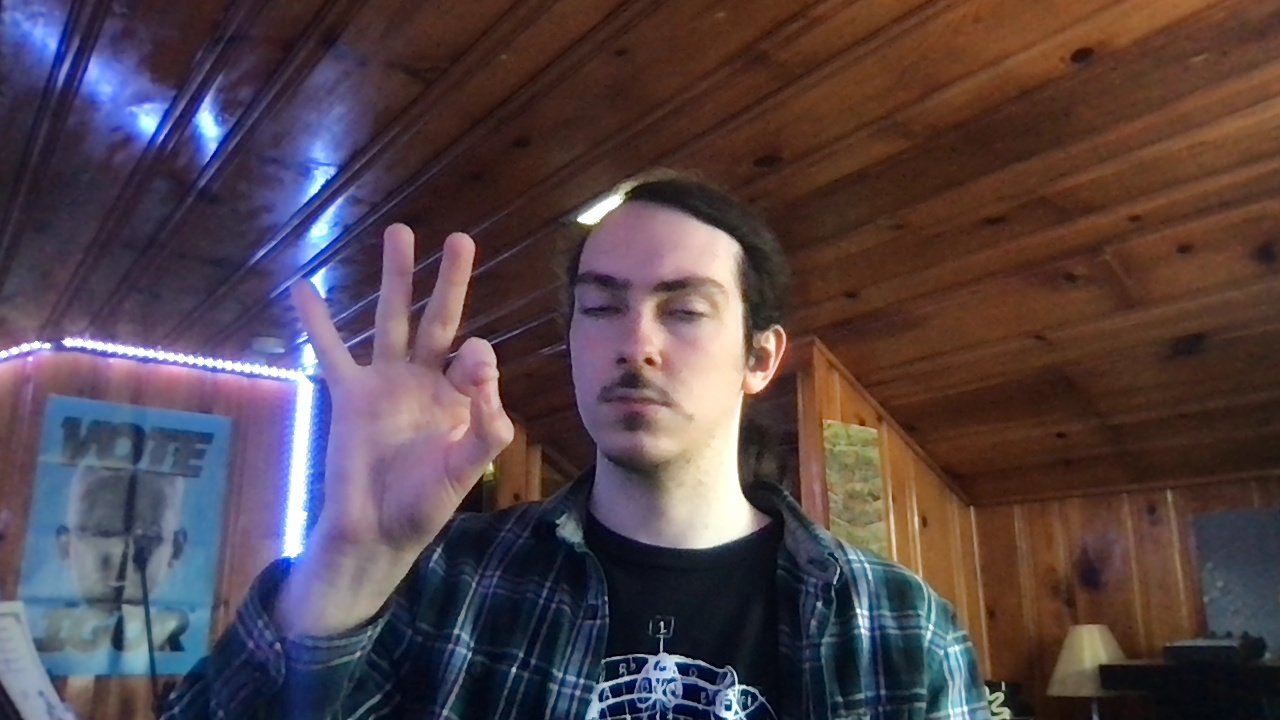f: (289, 222, 519, 548)
